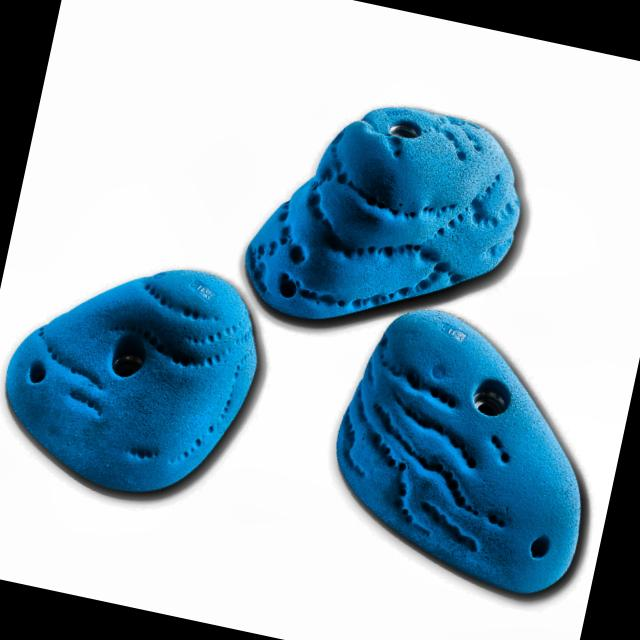Hold: (312, 298, 616, 612), (236, 71, 540, 362), (0, 236, 280, 515)
